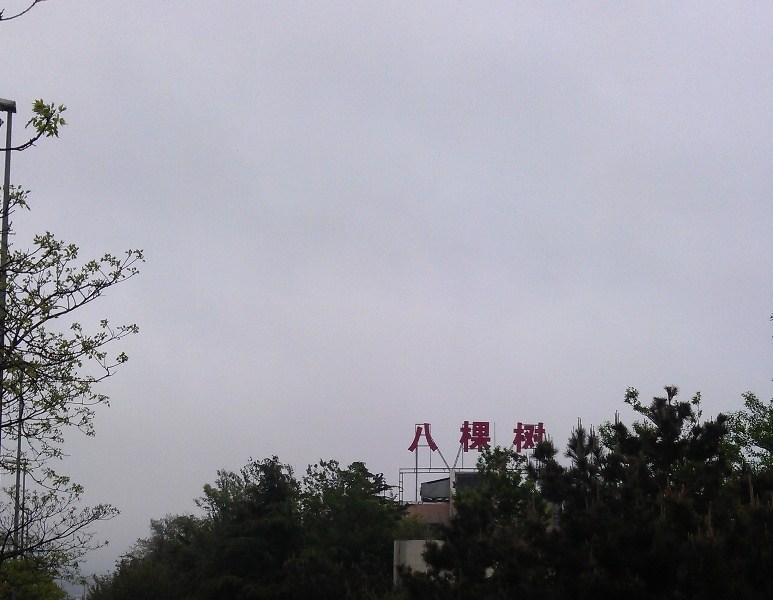text: (417, 421, 432, 453), (433, 421, 448, 453), (449, 421, 464, 453), (465, 421, 480, 453), (481, 421, 496, 453), (497, 421, 512, 453), (513, 421, 528, 453), (529, 421, 544, 453), (408, 421, 416, 453), (545, 421, 548, 453)
